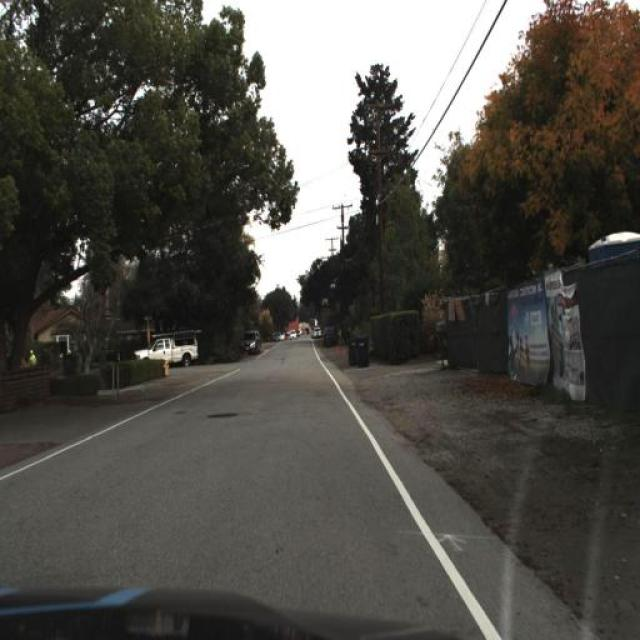car: (136, 336, 200, 372), (240, 329, 260, 359)
trafficLight: (26, 346, 36, 374)
